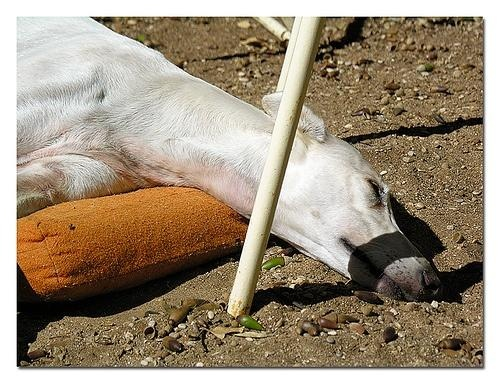dog: (19, 17, 445, 305)
